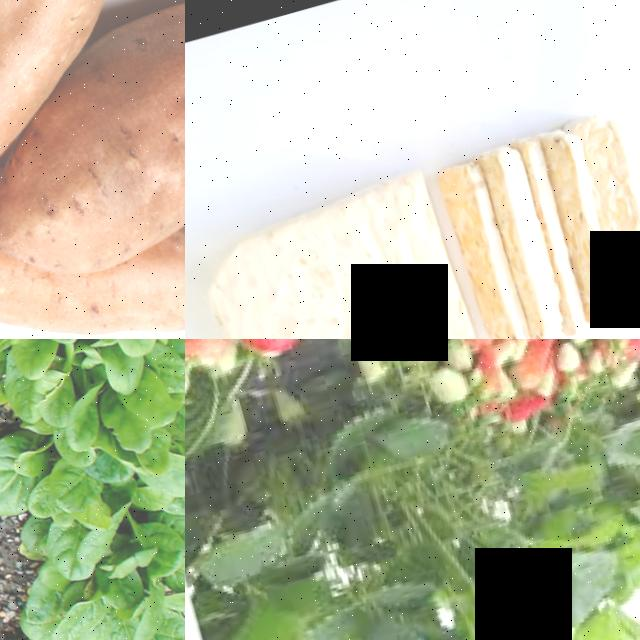spinach: (0, 425, 54, 526), (118, 366, 180, 434), (42, 589, 112, 640), (97, 339, 164, 361), (167, 379, 185, 449), (150, 605, 185, 640)
strawberry: (220, 339, 336, 367)
sweet potato: (62, 0, 185, 264), (0, 0, 185, 104), (0, 140, 117, 299), (104, 199, 185, 339)
tempeh: (188, 160, 488, 339), (533, 122, 625, 329), (475, 141, 568, 339), (431, 155, 531, 339), (569, 106, 640, 322)
